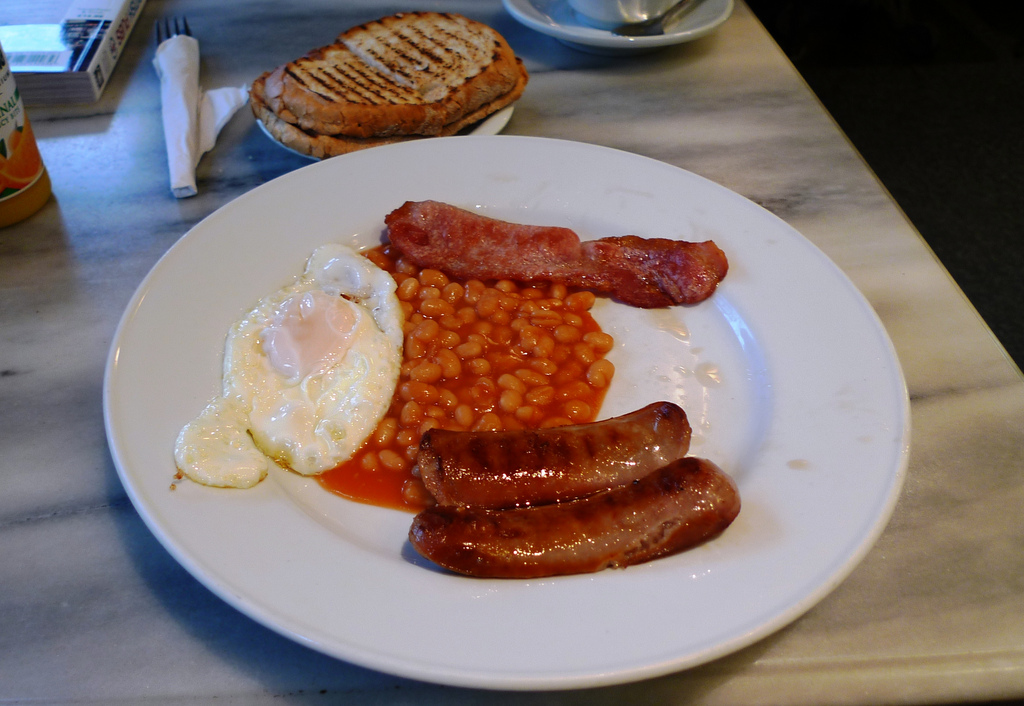fried egg: (216, 268, 399, 474)
